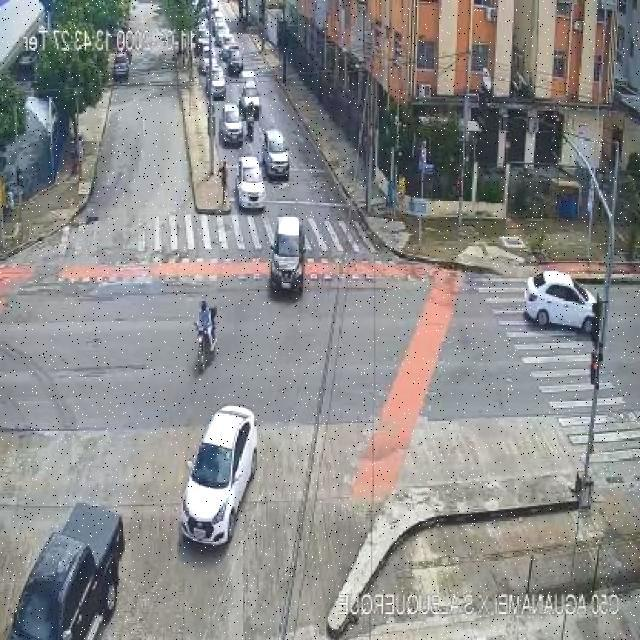Car: (16, 506, 140, 640), (176, 403, 265, 560), (515, 255, 625, 335), (262, 215, 326, 303), (264, 129, 293, 183), (234, 158, 266, 206), (216, 104, 248, 146), (208, 65, 232, 96), (200, 46, 218, 72)
Cycle: (180, 306, 228, 372), (243, 101, 263, 142)
Van: (238, 70, 262, 109)
